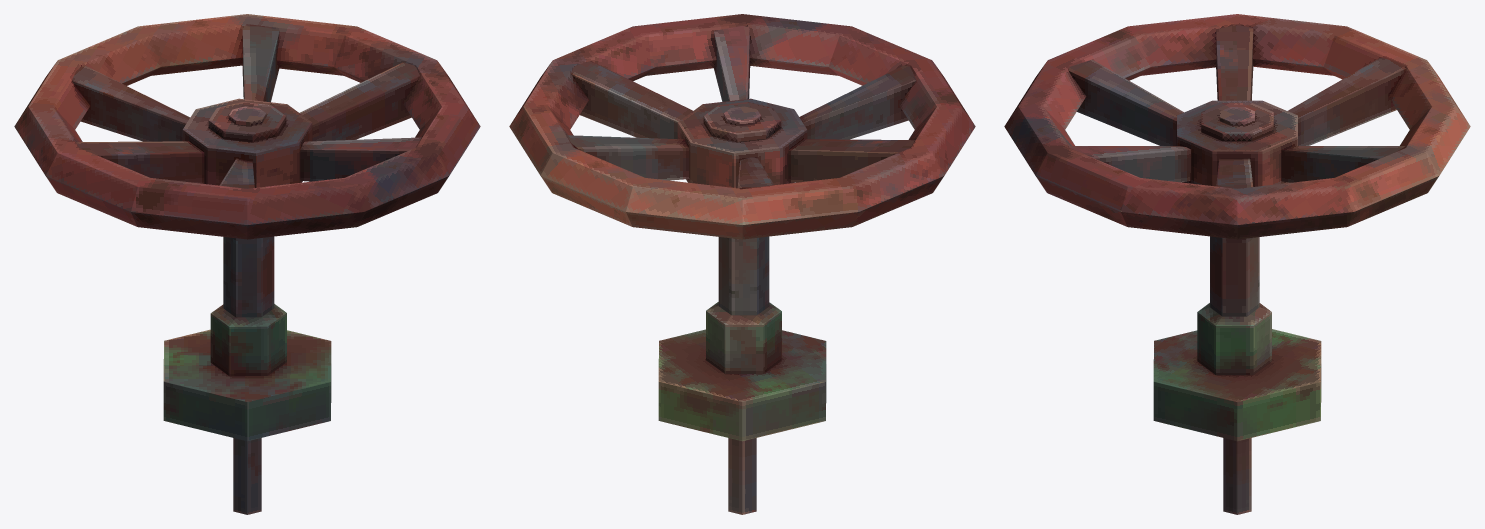
Rendered from item_wheelhandle.glb.
3 views of the same model, side by side, from view 1: azimuth 30°, elevation 25°; view 2: azimuth 150°, elevation 25°; view 3: azimuth 270°, elevation 25° (orthographic).
Parts seen in each view (by area): view 1: Valve_low; view 2: Valve_low; view 3: Valve_low.
Part boxes in pixels (left/top/right/bottom): Valve_low: left=14, top=14, right=480, bottom=514; Valve_low: left=509, top=14, right=975, bottom=514; Valve_low: left=1004, top=14, right=1470, bottom=514.
Bounding box in the file's own units: 0.4855 × 0.461 × 0.4855.
1 material, 1 textured.
